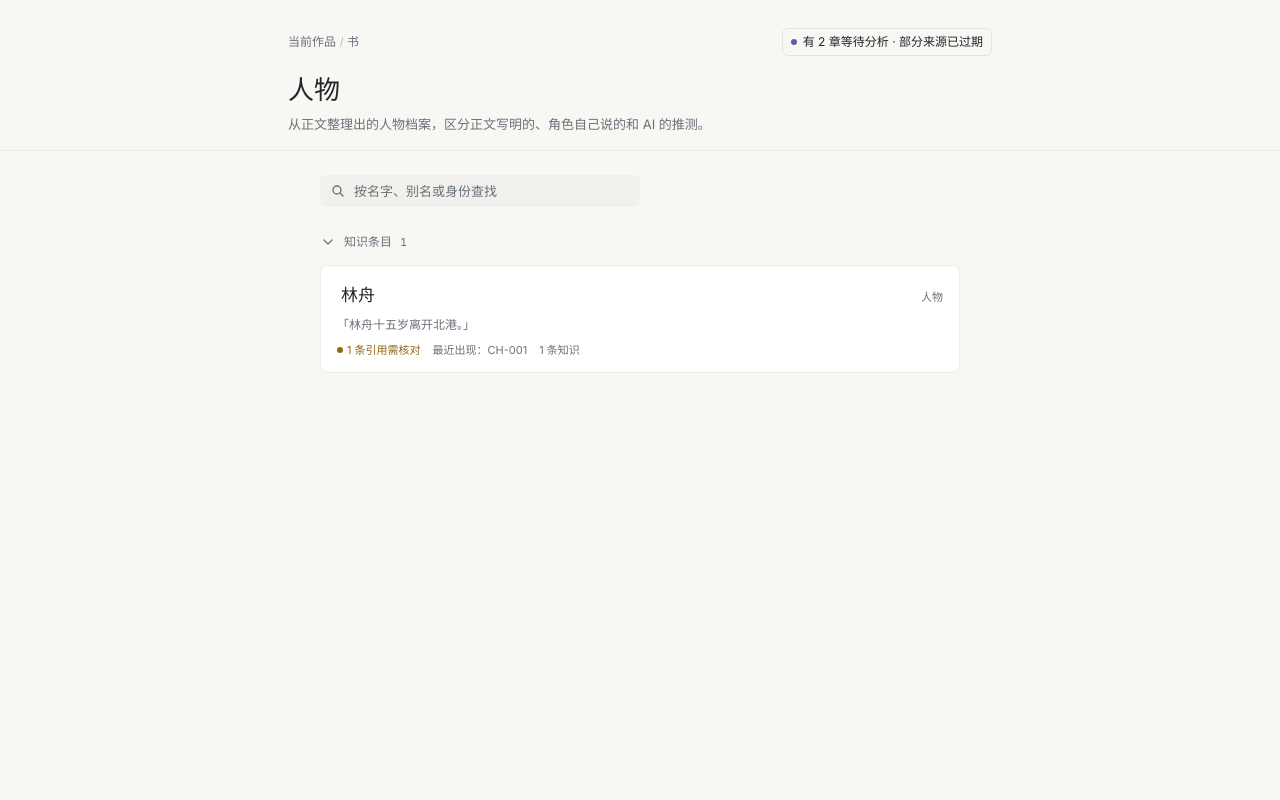
Test: private AI memory › shows stale status and background work without blocking author
The width and height of the screenshot is (1280, 800).
expect the button "有 2 章等待分析 · 部分来源已过期" is shown: met, box [782,28,992,56]
Click the button with aria-label "打开林舟详情": (358, 296) [329,280,387,312]
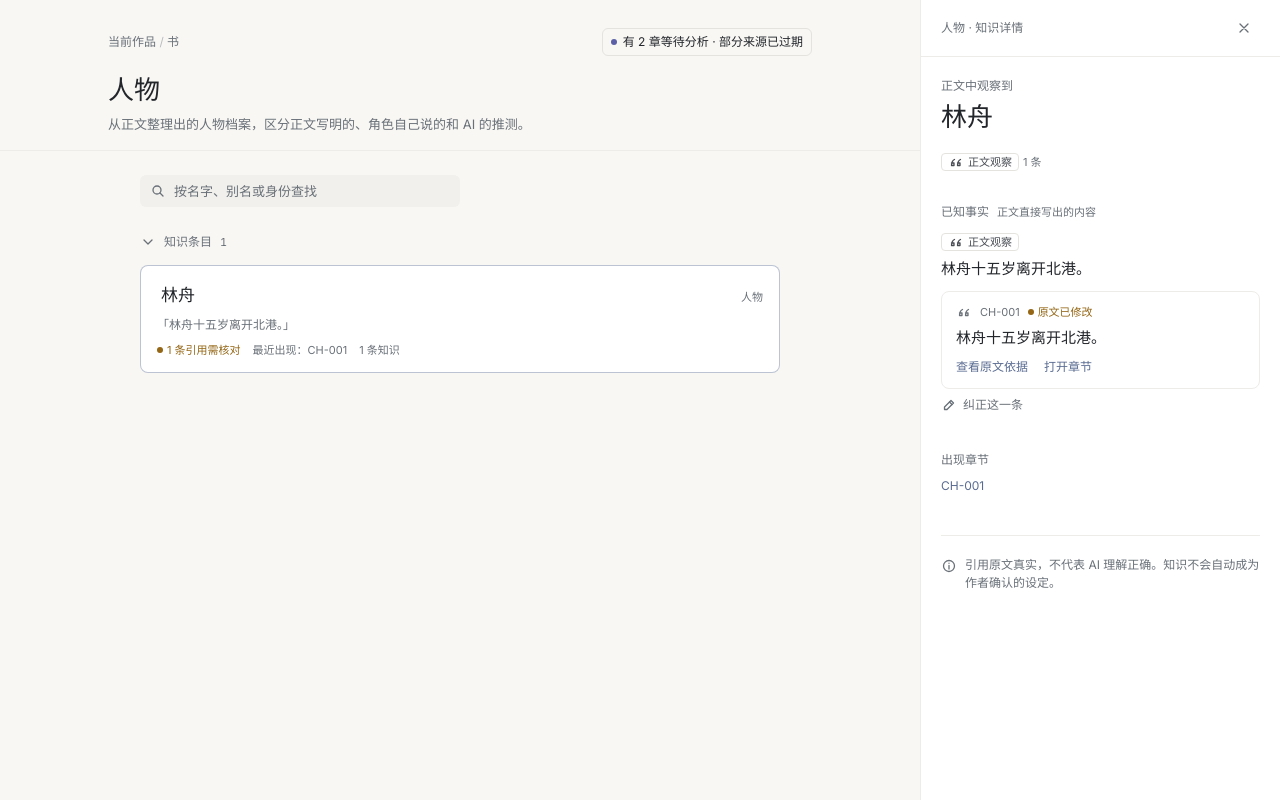
Click the button with aria-label "CH-001 · 查看原文依据": (992, 367) [956,358,1028,376]
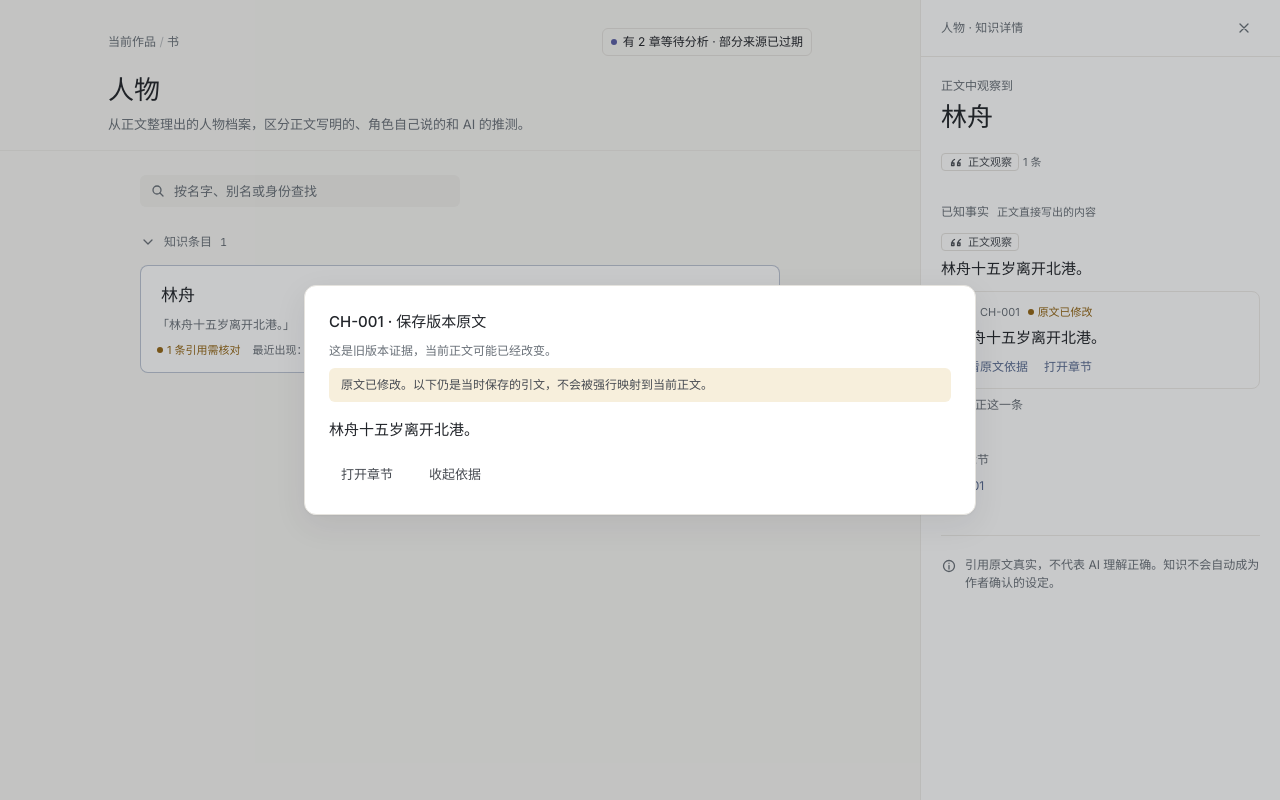
expect the dialog named "原文证据" shows "旧版本证据": met, box [329,343,557,358]
